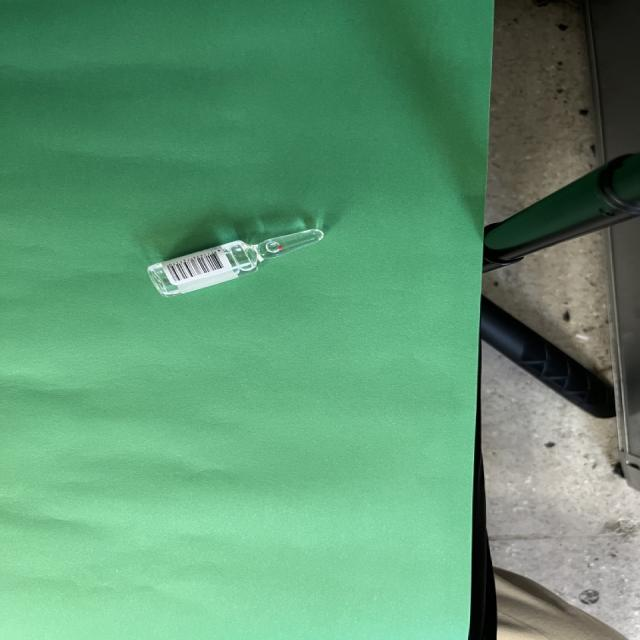Ampoules: (147, 228, 325, 298)
